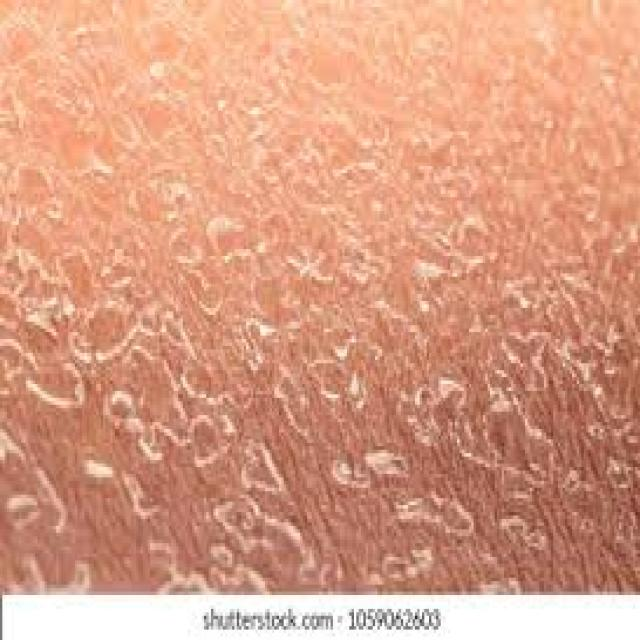flakiness: (25, 198, 545, 581)
